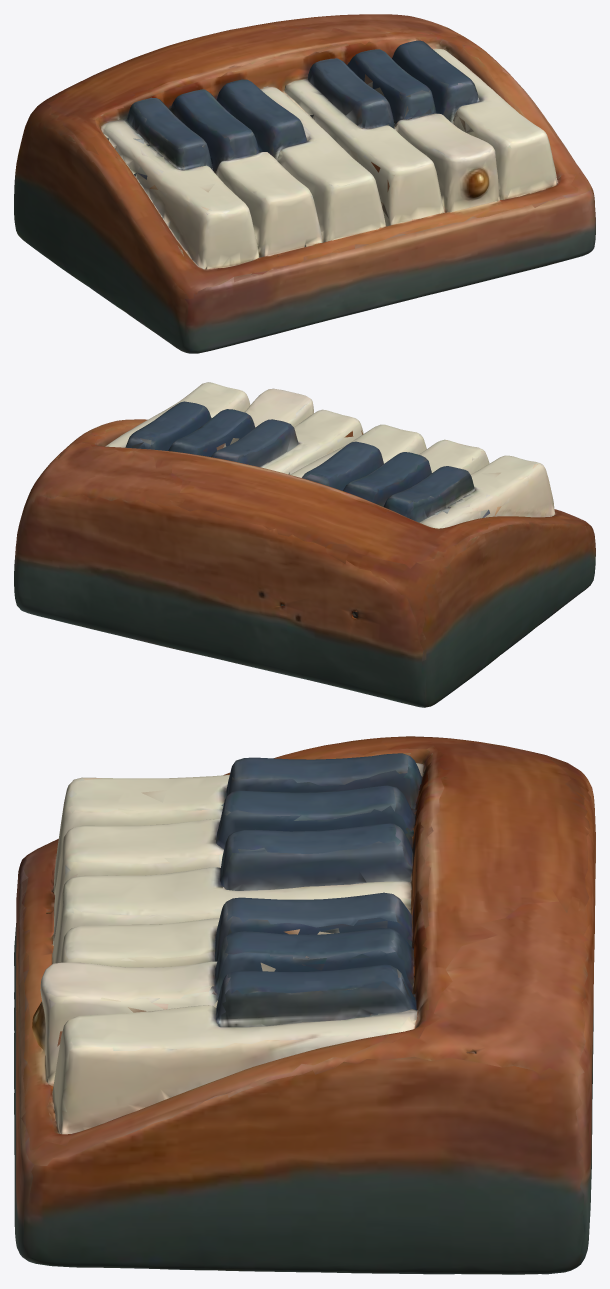
File: sc-keyboard-step.glb
3 renders of one model, top to bottom at view 1: azimuth 30°, elevation 25°; view 2: azimuth 150°, elevation 25°; view 3: azimuth 270°, elevation 25°, orthographic. The views are drawn at different scales.
Parts seen in each view (by area): view 1: geometry_0; view 2: geometry_0; view 3: geometry_0.
Part boxes in pixels (x1,y1,x2,y2): geometry_0: (14, 14, 595, 353); geometry_0: (14, 382, 595, 707); geometry_0: (14, 736, 595, 1274).
Size of the model in its own units: 1 by 0.3726 by 0.7458.
Materials: 1 (1 with a texture image).
